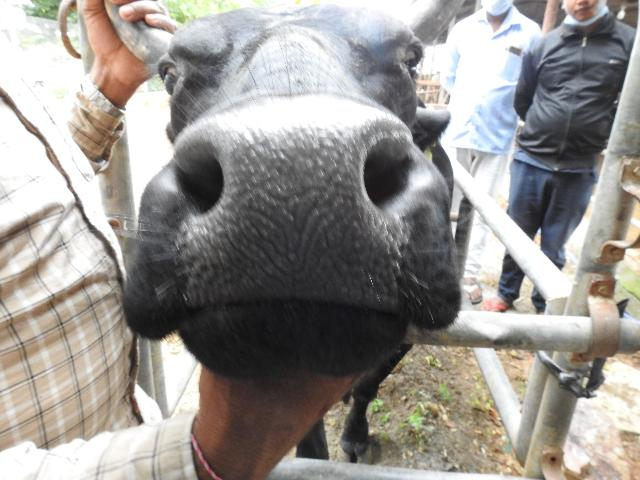Muzzle: (208, 115, 386, 299)
